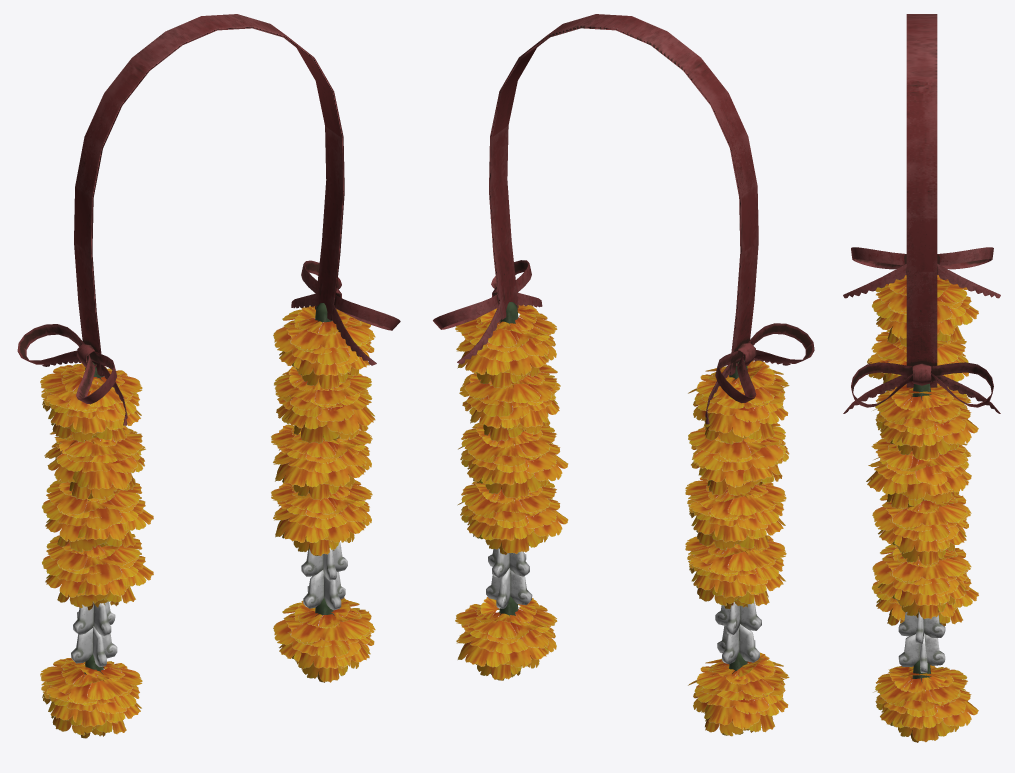
The model's file is FlowerGarland_02.fbx.
The picture shows the model from 3 angles, left to right: view 1: azimuth 30°, elevation 25°; view 2: azimuth 150°, elevation 25°; view 3: azimuth 270°, elevation 25°; orthographic projection. The views are drawn at different scales.
Visible parts, largest first — view 1: polySurface248; view 2: polySurface248; view 3: polySurface248.
Part boxes in pixels (x1,y1,x2,y2): polySurface248: (17,14,400,738); polySurface248: (433,14,814,736); polySurface248: (843,14,1000,742).
Size of the model in its own units: 78.88 by 145 by 30.93.
